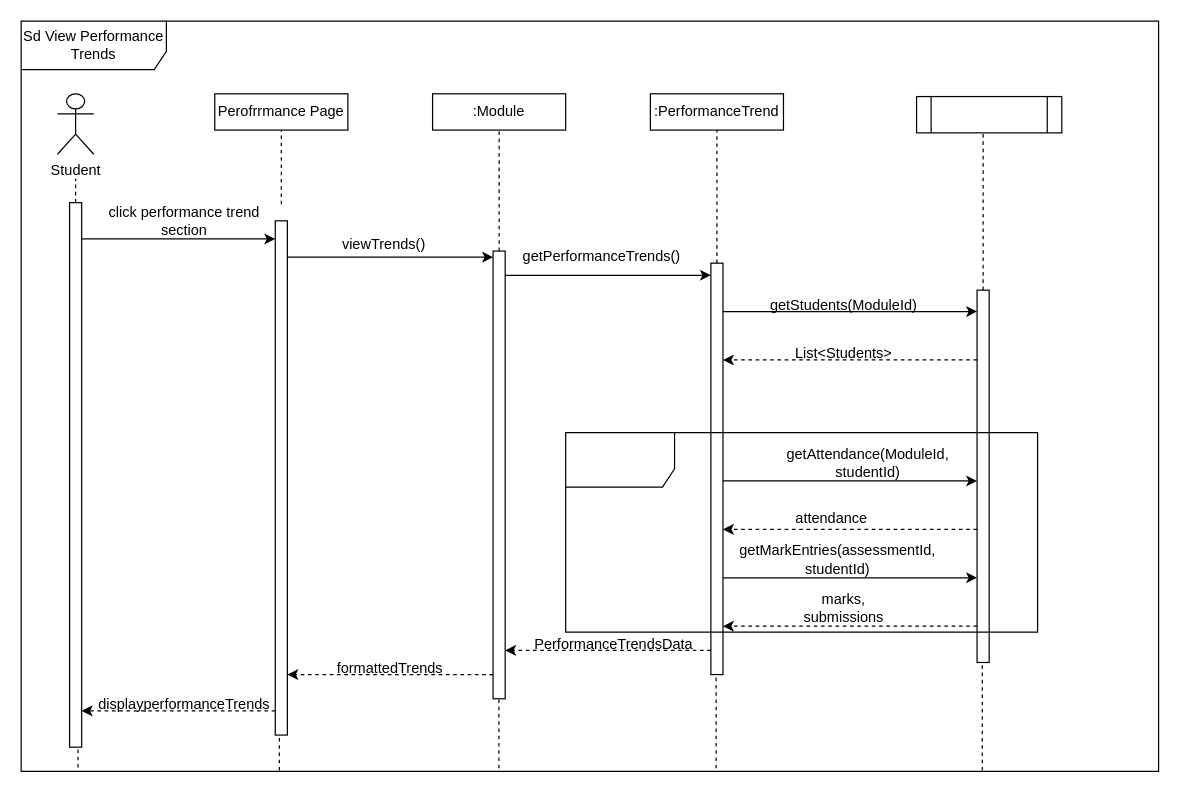
This 1180x794 diagram has some shape labels left out. The shapes that lost their labels are listed below. From the top down, each one's centre as x and y in pixels, then its label:
At pixel 988 114: ":Database".
At pixel 801 531: "loop while students exist".
